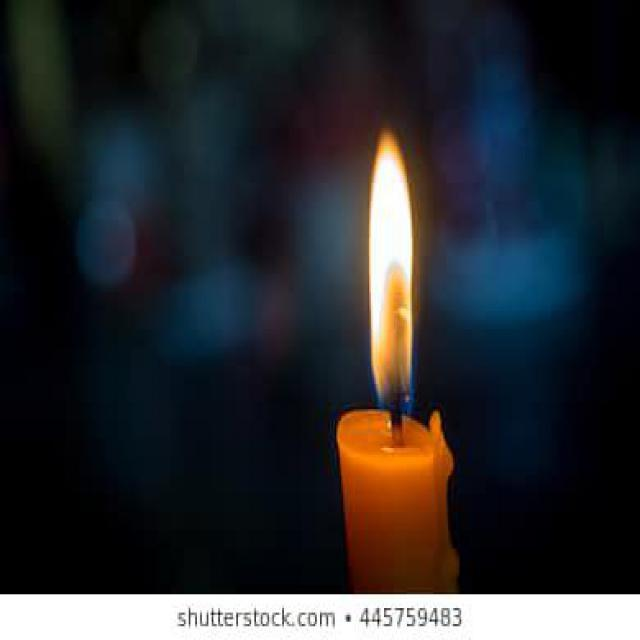Fire: (369, 127, 414, 415)
